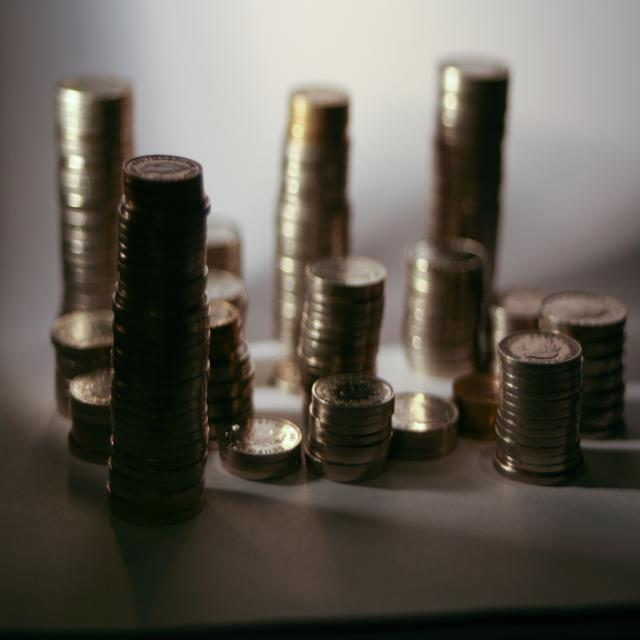Coin: (50, 47, 631, 528)
